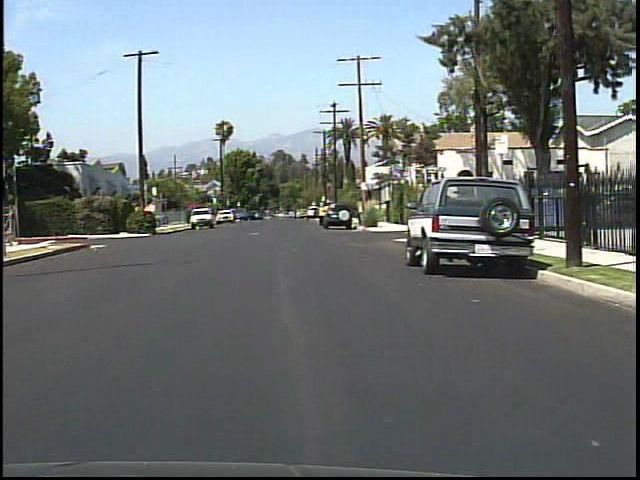car: (408, 178, 533, 274), (321, 206, 352, 231), (187, 208, 216, 229)
strada: (2, 219, 599, 477)
